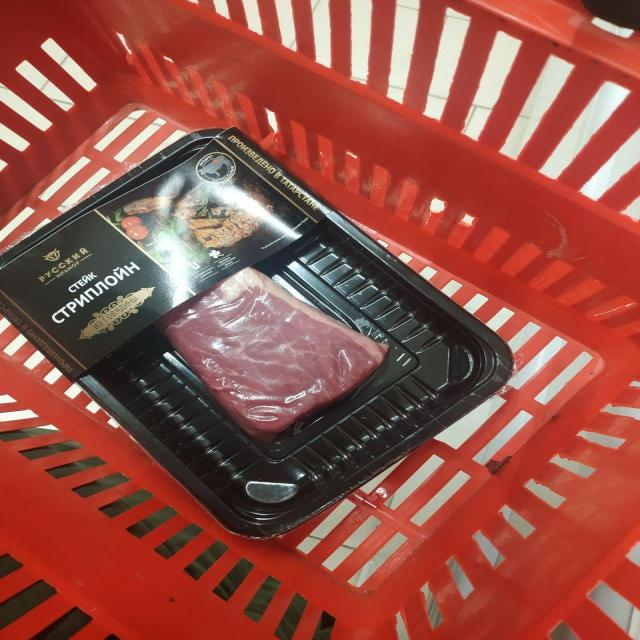Meat: (2, 128, 513, 538)
